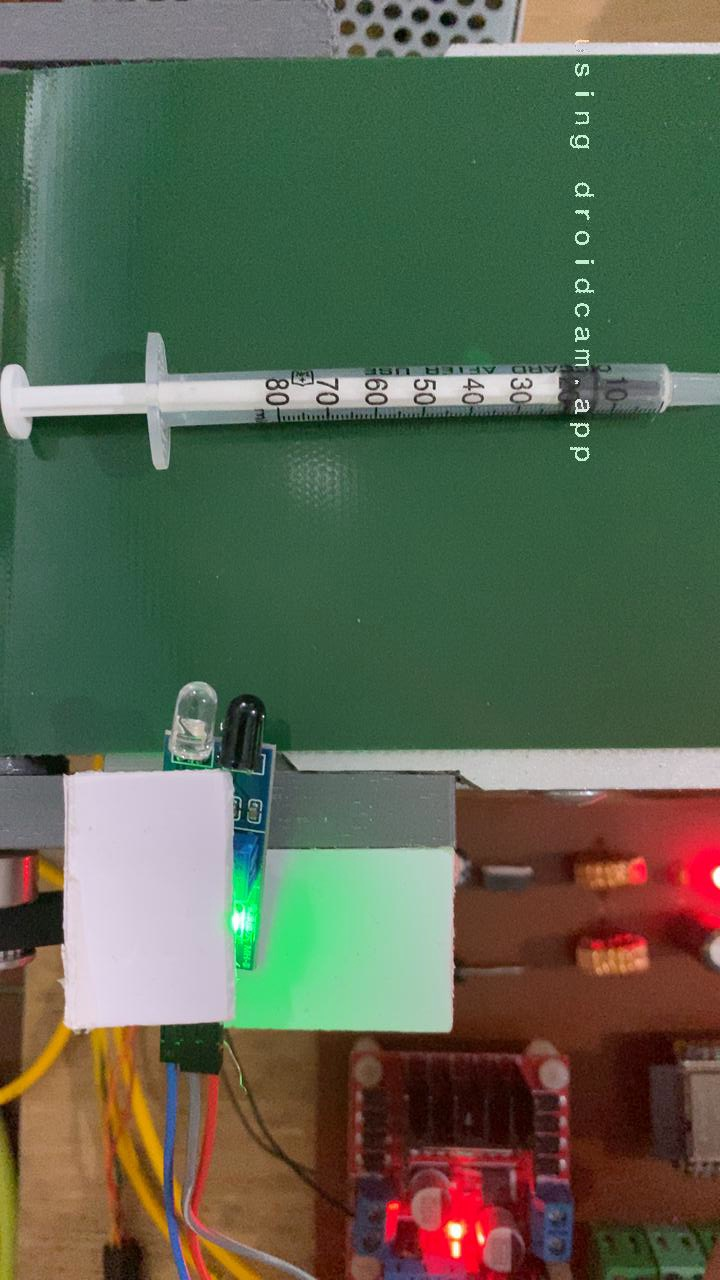syringe: (0, 326, 720, 478)
